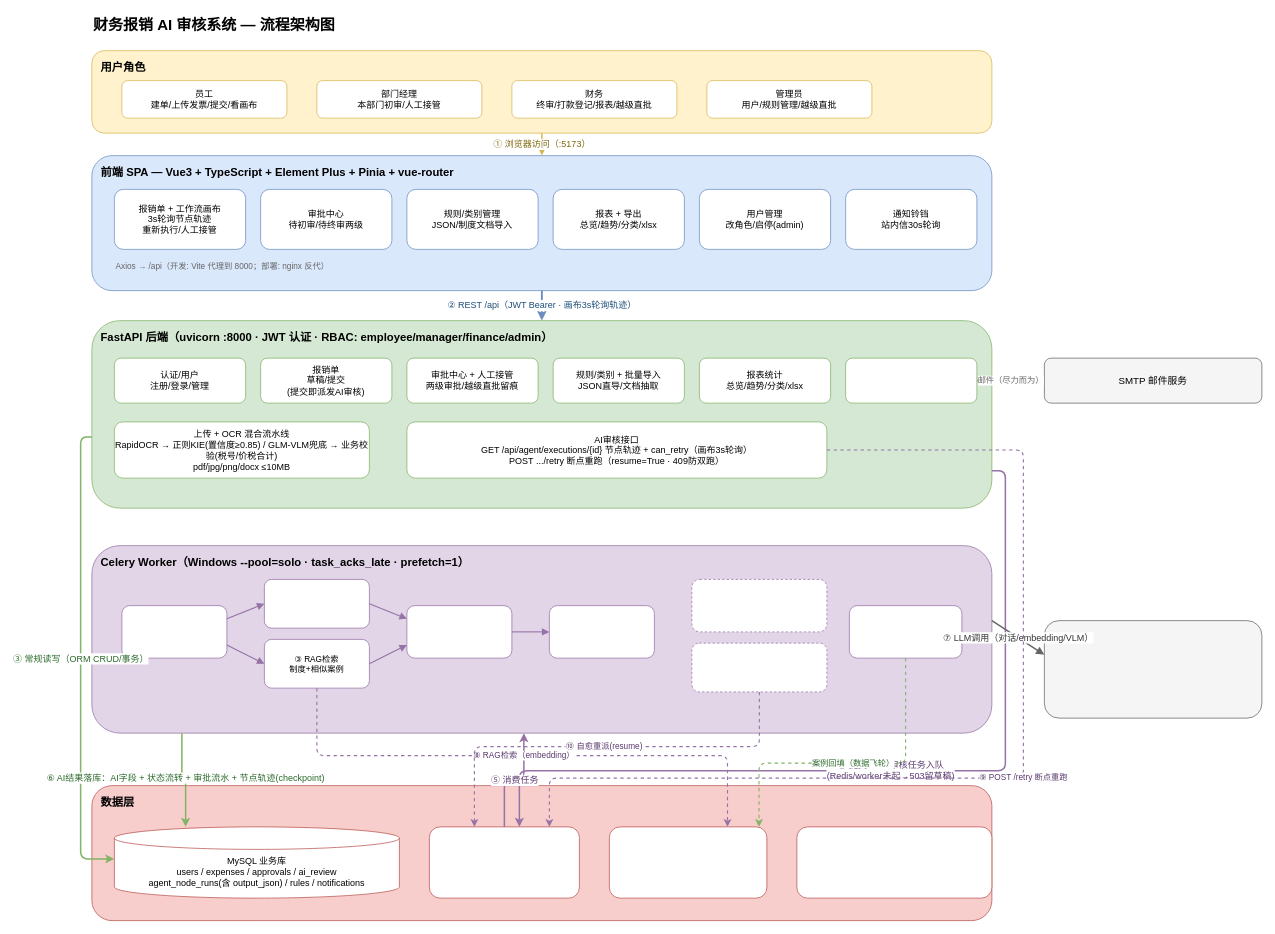
Image size: 1275x934. Some labels were removed from this diagram. Here are the shapes that lost their labels. From the top down, the centre of each, then its label:
At pixel 911 380: "通知中心 站内信+邮件触发".
At pixel 316 603: "② 规则校验 纯代码引擎 BLOCK/REVIEW/WARN".
At pixel 759 605: "断点恢复 agent_node_runs.output_json resume跳过·不重调LLM".
At pixel 174 631: "① 单据解析 明细/发票核验".
At pixel 459 631: "④ 风险评估 0-100分".
At pixel 601 631: "⑤ 终审裁决 auto通过/驳回/转人审".
At pixel 905 631: "案例回填 知识库数据飞轮".
At pixel 759 667: "worker_ready 自愈 15min宽限重派卡死单".
At pixel 1153 669: "智谱 GLM API glm-5.1 对话 embedding-3 向量 GLM-VLM 视觉(OCR/KIE)".
At pixel 504 862: "Redis Celery broker+backend 报表缓存(可选)".
At pixel 688 862: "ChromaDB 向量库 policies 制度库 similar_cases 案例库".
At pixel 894 862: "文件落盘 uploads/yyyy/mm/ 发票原件(pdf/jpg/png/docx)".
